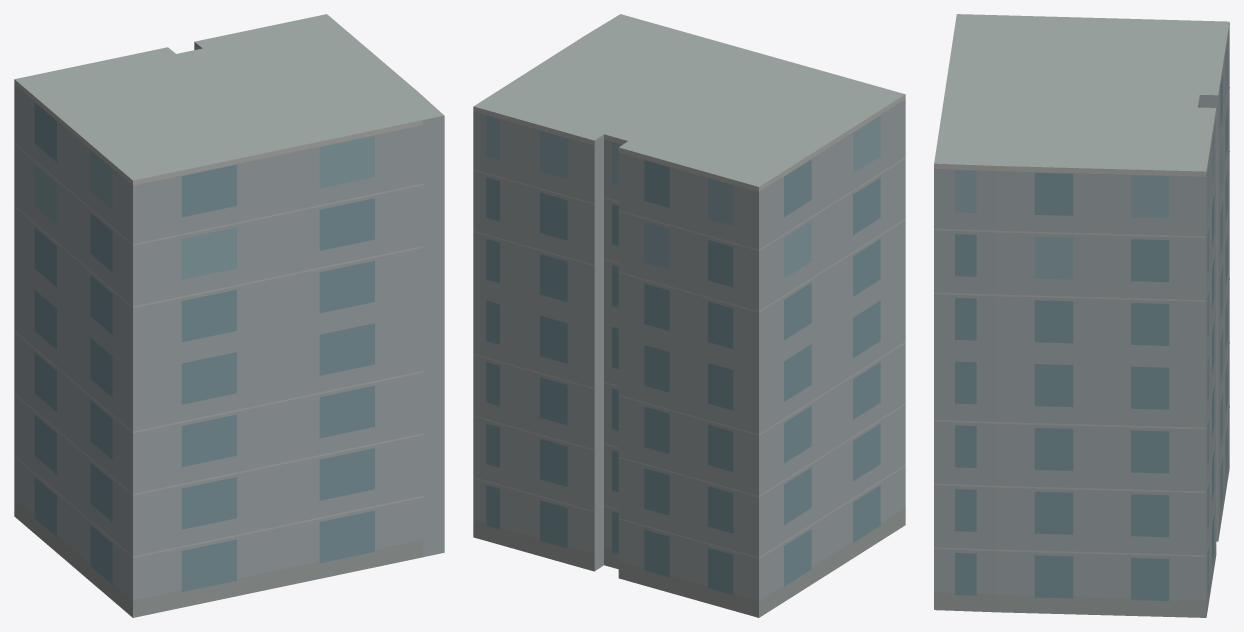
File: survey-upis-32955205.glb
3 views of the same model, side by side, from view 1: azimuth 30°, elevation 25°; view 2: azimuth 150°, elevation 25°; view 3: azimuth 270°, elevation 25° (orthographic). The views are drawn at different scales.
Parts seen in each view (by area): view 1: survey-upis-32955205.tmp; view 2: survey-upis-32955205.tmp; view 3: survey-upis-32955205.tmp.
Part boxes in pixels (x1,y1,x2,y2): survey-upis-32955205.tmp: (14,14,444,617); survey-upis-32955205.tmp: (473,14,905,617); survey-upis-32955205.tmp: (934,14,1229,617).
Bounding box in the file's own units: 16.19 × 21.35 × 12.83.
